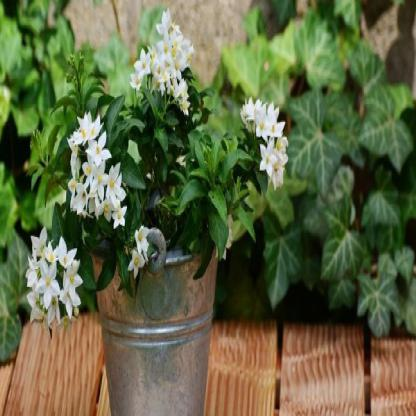Melati: (65, 104, 133, 233), (124, 8, 208, 112), (235, 84, 303, 190), (21, 219, 86, 323), (130, 219, 152, 295)
